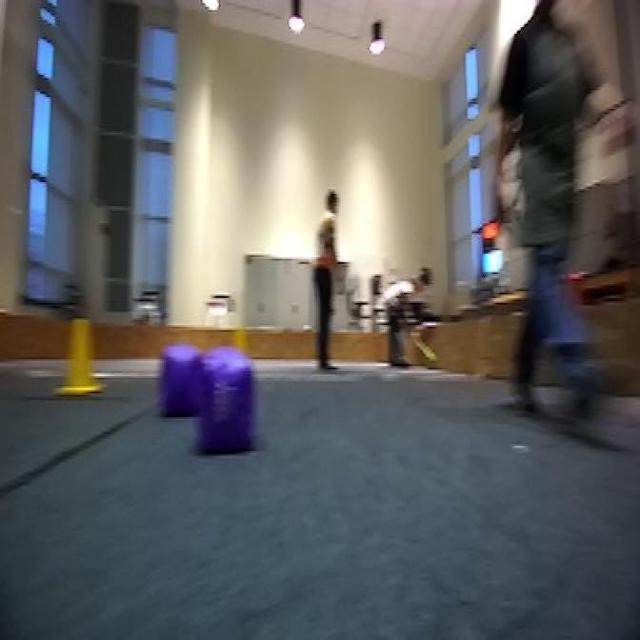frc_cone: (53, 315, 106, 396), (229, 328, 254, 392)
frc_cube: (200, 354, 254, 448), (162, 342, 205, 417)
